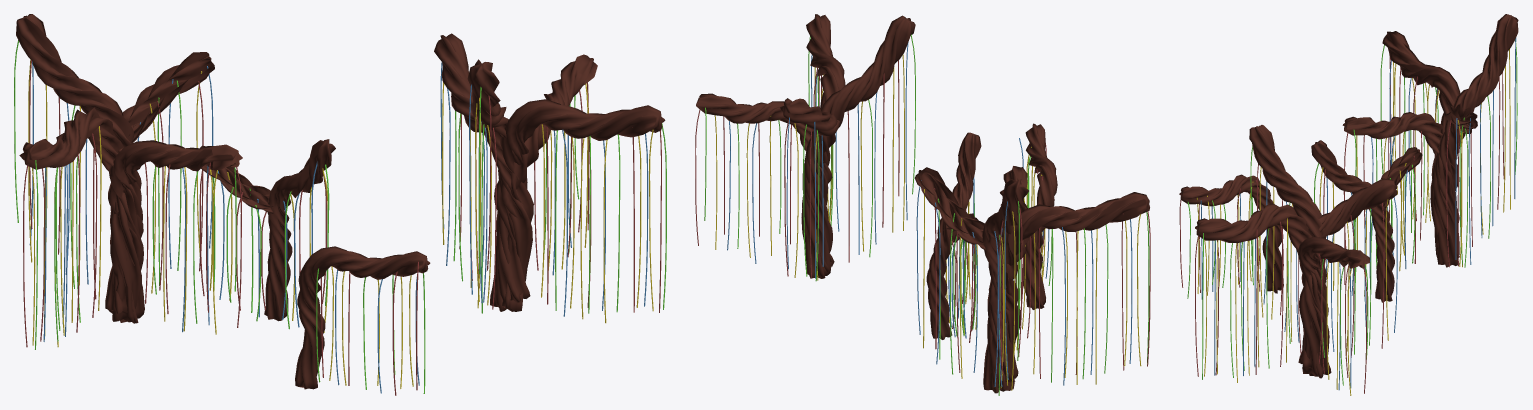
The model's file is arbres ficelle.fbx.
3 views of the same model, side by side, from view 1: azimuth 30°, elevation 25°; view 2: azimuth 150°, elevation 25°; view 3: azimuth 270°, elevation 25° (orthographic). The views are drawn at different scales.
Parts seen in each view (by area): view 1: Cylinder.056, Cylinder.002, Cylinder.078, Cylinder.005; view 2: Cylinder.056, Cylinder.002, Cylinder.078, Cylinder.005; view 3: Cylinder.056, Cylinder.002, Cylinder.078, Cylinder.005.
Part boxes in pixels (left/top/right/bottom): Cylinder.056: left=14, top=14, right=242, bottom=349; Cylinder.002: left=434, top=33, right=665, bottom=311; Cylinder.078: left=199, top=139, right=335, bottom=332; Cylinder.005: left=295, top=246, right=430, bottom=395; Cylinder.056: left=914, top=166, right=1150, bottom=395; Cylinder.002: left=696, top=14, right=915, bottom=278; Cylinder.078: left=926, top=132, right=981, bottom=342; Cylinder.005: left=1019, top=123, right=1057, bottom=309; Cylinder.056: left=1342, top=14, right=1518, bottom=267; Cylinder.002: left=1195, top=125, right=1397, bottom=378; Cylinder.078: left=1311, top=140, right=1422, bottom=302; Cylinder.005: left=1179, top=174, right=1283, bottom=299.
Bounding box in the file's own units: 1739 × 884 × 1192.
